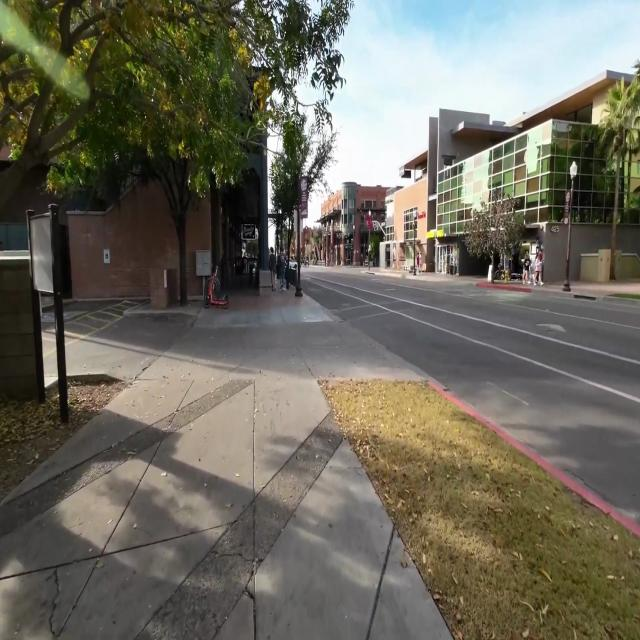road: (302, 266, 640, 536)
side walk: (0, 289, 452, 639)
